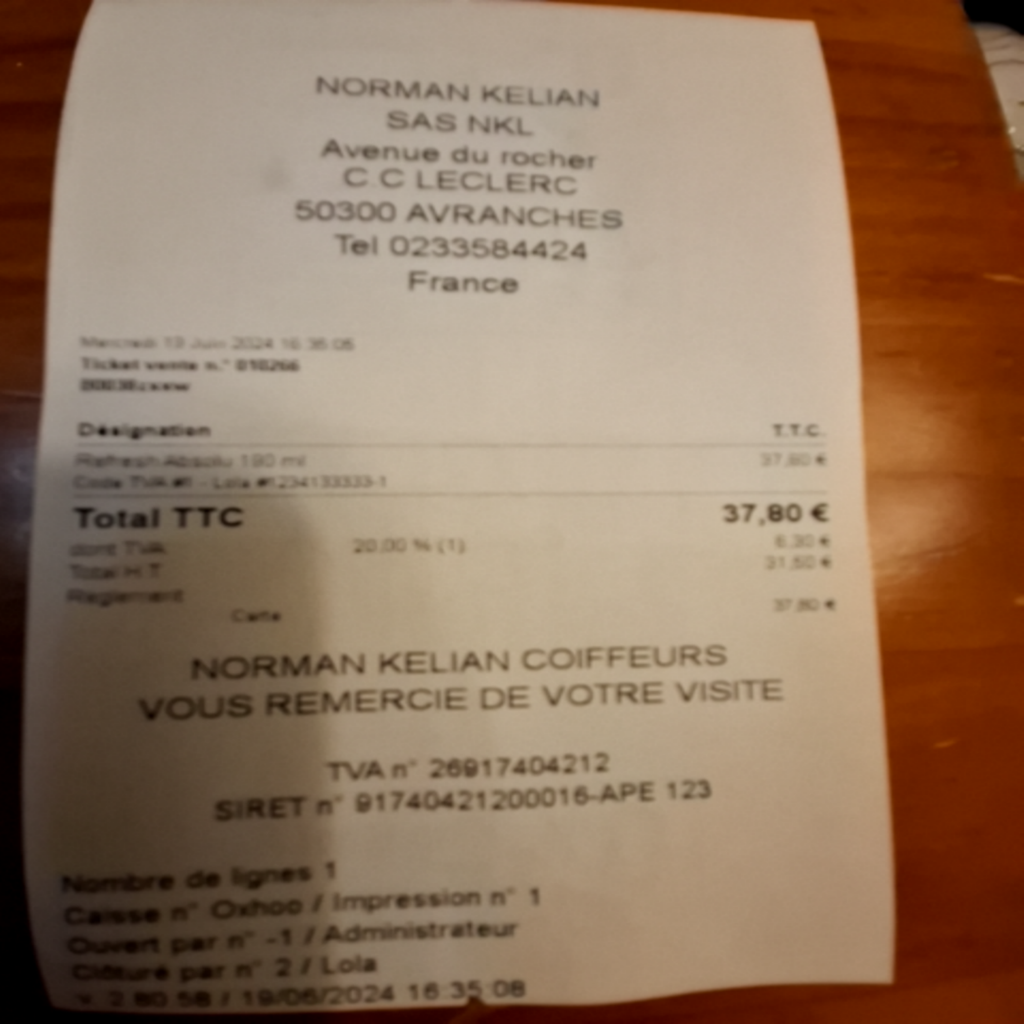recipt: (32, 0, 898, 1009)
